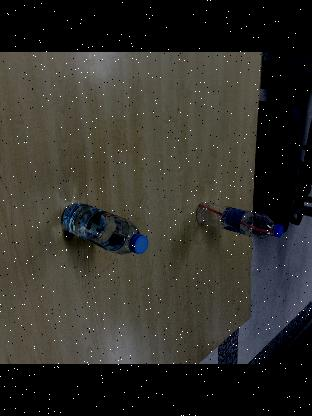Plastic Bottle: (57, 203, 150, 256), (192, 206, 286, 240)
